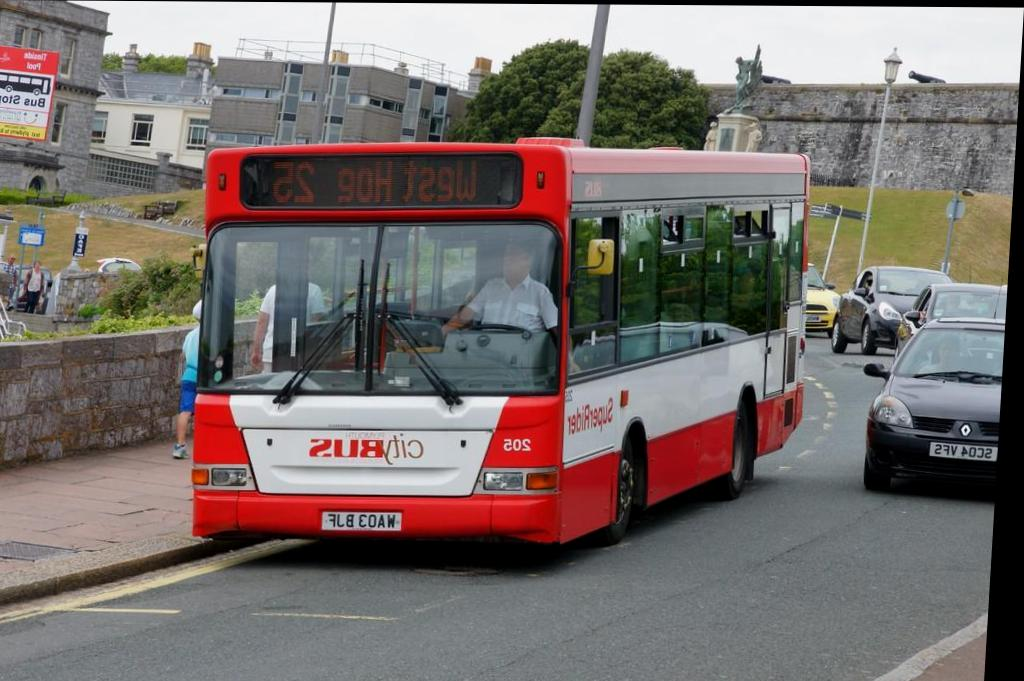License_Plate: (321, 509, 401, 530), (930, 440, 997, 462), (805, 314, 824, 321)
